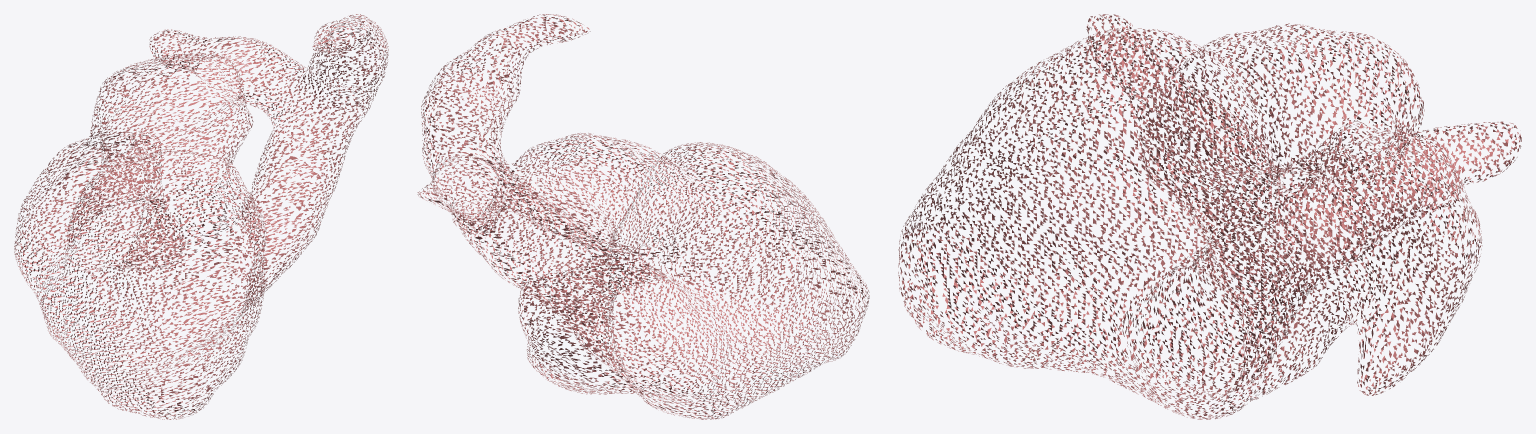
The model's file is heart.glb.
The picture shows the model from 3 angles, left to right: view 1: azimuth 30°, elevation 25°; view 2: azimuth 150°, elevation 25°; view 3: azimuth 270°, elevation 25°; orthographic projection. The views are drawn at different scales.
Size of the model in its own units: 132 by 115 by 130.
